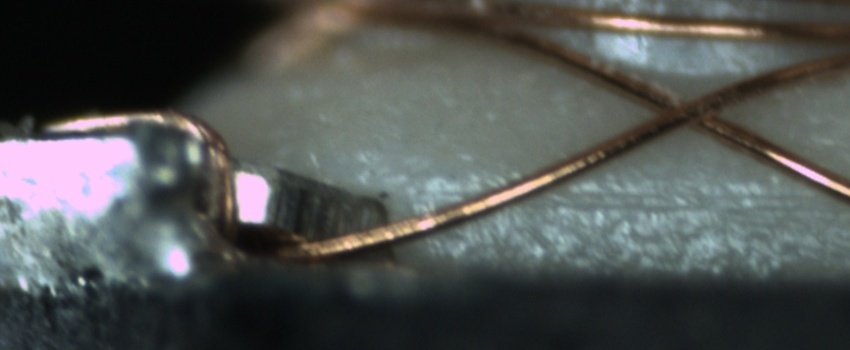CL: (644, 83, 737, 137)
DL: (429, 167, 850, 223)
TE: (40, 106, 246, 253)
